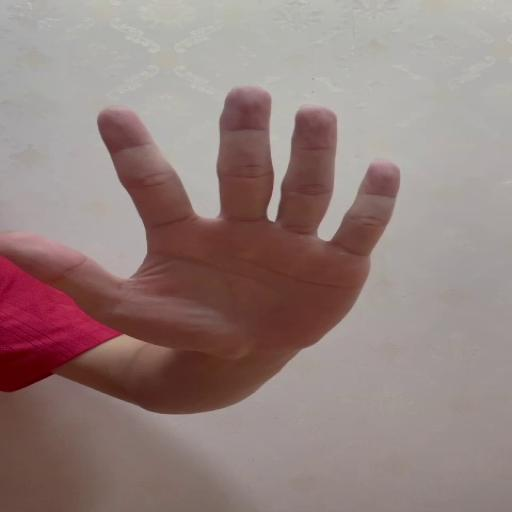open_palm: (4, 83, 402, 351)
